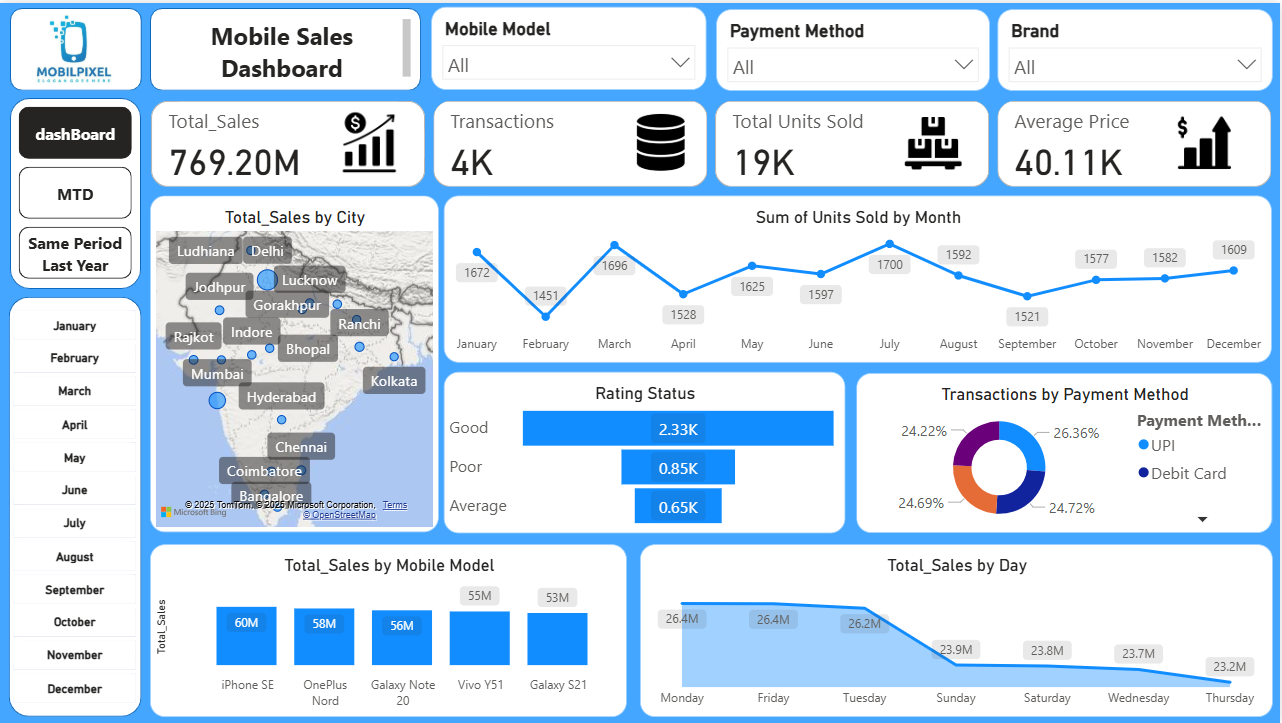

Layout of this report page (visuals, bound fields, positions):
{"tool":"powerbi","page":{"name":"dashBoard","canvas":[1280,720],"ordinal":0},"visuals":[{"type":"shape","box":[9.5,5,131.8,82.7],"z":0},{"type":"shape","box":[10,95,131,191],"z":1000},{"type":"shape","box":[8.6,294.3,132.9,420],"z":2000},{"type":"advancedSlicerVisual","fields":{"Values":["Personalized_Calender.Date.Variation.Date Hierarchy.Month"]},"box":[9,302.8,132.2,411.1],"z":3000},{"type":"slicer","fields":{"Values":["Sales_data.Mobile Model"]},"box":[431.4,4.3,275,83.6],"z":4000},{"type":"slicer","fields":{"Values":["Sales_data.Payment Method"]},"box":[715.7,6.4,273.6,81.4],"z":5000},{"type":"slicer","fields":{"Values":["Sales_data.Brand"]},"box":[997.1,6.4,275,81.4],"z":6000},{"type":"shape","box":[150,5,270.9,82.7],"z":7000},{"type":"textbox","box":[155.9,11.4,259.1,70.5],"z":8000},{"type":"map","fields":{"Category":["Sales_data.City"],"Size":["Sales_data.Total_Sales"]},"box":[150,192.9,288.6,337.1],"z":9000},{"type":"lineChart","fields":{"Category":["Personalized_Calender.Date.Variation.Date Hierarchy.Month"],"Y":["Sum(Sales_data.Units Sold)"]},"box":[444.3,192.9,827.9,167.1],"z":10000},{"type":"funnel","title":"Rating Status","fields":{"Category":["Sales_data.Rating Status"],"Y":["CountNonNull(Sales_data.Customer Ratings)"]},"box":[443.8,368.8,401.2,161.2],"z":11000},{"type":"donutChart","fields":{"Y":["Sales_data.Transactions"],"Category":["Sales_data.Payment Method"]},"box":[856.4,370,415.7,160],"z":12000},{"type":"columnChart","fields":{"Category":["Sales_data.Mobile Model"],"Y":["Sales_data.Total_Sales"]},"box":[150,541.4,477.1,172.9],"z":13000},{"type":"areaChart","title":"Total_Sales by Day","fields":{"Category":["Personalized_Calender.Day Name"],"Y":["Sales_data.Total_Sales"]},"box":[640,541.4,632.9,172.9],"z":14000},{"type":"image","box":[30,0,90,91.4],"z":15000},{"type":"pageNavigator","box":[18.8,103.8,113.8,172.5],"z":16000},{"type":"cardVisual","fields":{"Data":["Sales_data.Total_Sales","Sales_data.Transactions","Sum(Sales_data.Units Sold)","Avg(Sales_data.Price Per Unit)"]},"box":[145.7,88.1,1131,101.4],"z":17000},{"type":"image","box":[333.8,103.8,71.2,71.2],"z":18000},{"type":"image","box":[900,105,66.2,70],"z":19000},{"type":"image","box":[1171.2,106.2,66.2,67.5],"z":20000},{"type":"image","box":[627.5,103.8,66.2,71.2],"z":21000}]}

Visuals, with their boxes in screenshot pixels (x1, y1, x2, y2), scaled from the page's 1280x720 canvas onto the 1282x723 screenshot:
shape: box=[10, 5, 142, 88]
shape: box=[10, 95, 141, 287]
shape: box=[9, 296, 142, 717]
advancedSlicerVisual - Personalized_Calender.Date.Variation.Date Hierarchy.Month: box=[9, 304, 141, 717]
slicer - Sales_data.Mobile Model: box=[432, 4, 708, 88]
slicer - Sales_data.Payment Method: box=[717, 6, 991, 88]
slicer - Sales_data.Brand: box=[999, 6, 1274, 88]
shape: box=[150, 5, 422, 88]
textbox: box=[156, 11, 416, 82]
map - Sales_data.City x Sales_data.Total_Sales: box=[150, 194, 439, 532]
lineChart - Personalized_Calender.Date.Variation.Date Hierarchy.Month x Sum(Sales_data.Units Sold): box=[445, 194, 1274, 362]
"Rating Status" funnel: box=[444, 370, 846, 532]
donutChart - Sales_data.Transactions x Sales_data.Payment Method: box=[858, 372, 1274, 532]
columnChart - Sales_data.Mobile Model x Sales_data.Total_Sales: box=[150, 544, 628, 717]
"Total_Sales by Day" areaChart: box=[641, 544, 1275, 717]
image: box=[30, 0, 120, 92]
pageNavigator: box=[19, 104, 133, 277]
cardVisual - Sales_data.Total_Sales x Sales_data.Transactions: box=[146, 88, 1279, 190]
image: box=[334, 104, 406, 176]
image: box=[901, 105, 968, 176]
image: box=[1173, 107, 1239, 174]
image: box=[628, 104, 695, 176]
